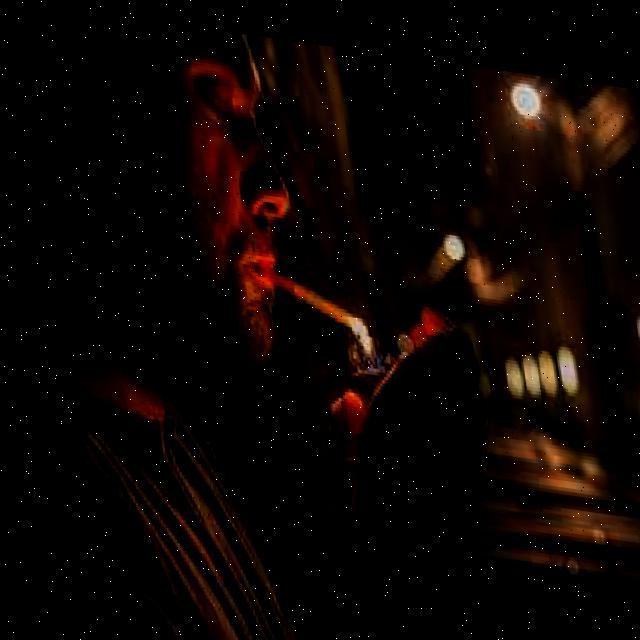Fire: (328, 293, 372, 367)
